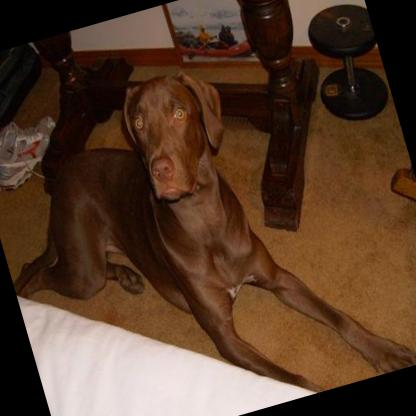vizsla: (0, 23, 416, 416)
